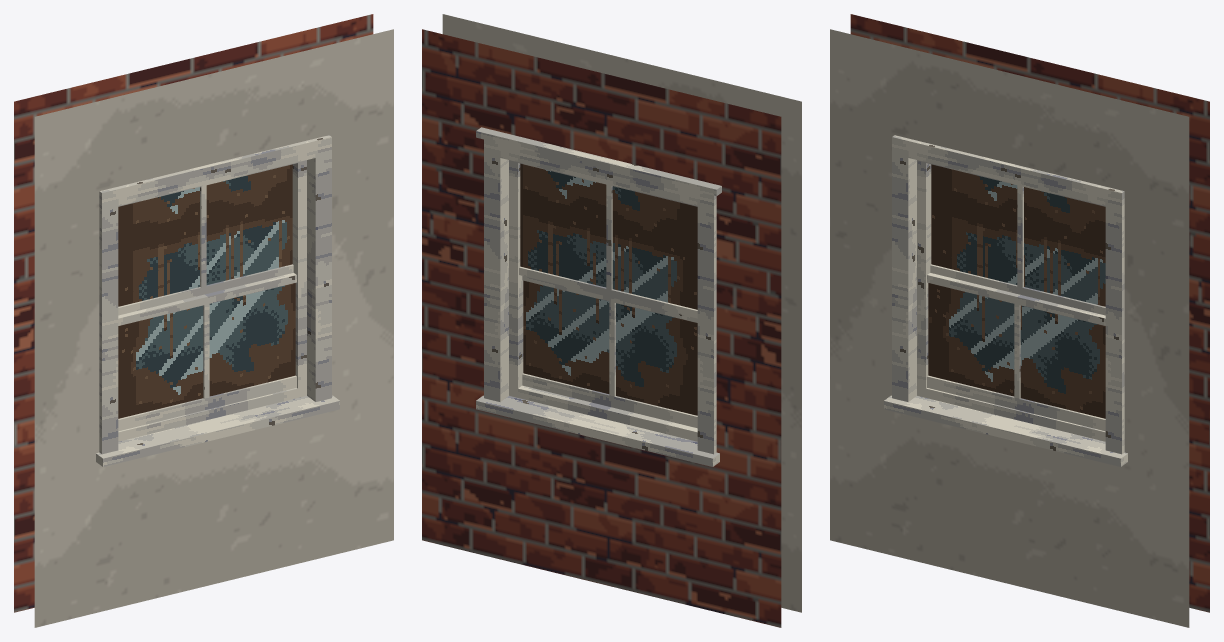
File: RES_Ext_Wall_2m_Window_BrickRed.obj
3 renders of one model, left to right at view 1: azimuth 30°, elevation 25°; view 2: azimuth 150°, elevation 25°; view 3: azimuth 330°, elevation 25°, orthographic.
Parts seen in each view (by area): view 1: RES_Ext_Wall_2m_Window_BrickRed_Mesh_M_Int_DrywallLight, RES_Ext_Wall_2m_Window_BrickRed_Mesh_M_Arch_TrimPainted, RES_Ext_Wall_2m_Window_BrickRed_Mesh_M_Arch_BrickRed, RES_Ext_Wall_2m_Window_BrickRed_Mesh_M_Arch_WindowGlassDirty, INT_WindowSash_M_Arch_WindowGlassDirty, INT_WindowSash_M_Arch_TrimPainted; view 2: RES_Ext_Wall_2m_Window_BrickRed_Mesh_M_Arch_BrickRed, RES_Ext_Wall_2m_Window_BrickRed_Mesh_M_Arch_TrimPainted, RES_Ext_Wall_2m_Window_BrickRed_Mesh_M_Arch_WindowGlassDirty, RES_Ext_Wall_2m_Window_BrickRed_Mesh_M_Int_DrywallLight, INT_WindowSash_M_Arch_WindowGlassDirty, INT_WindowSash_M_Arch_TrimPainted; view 3: RES_Ext_Wall_2m_Window_BrickRed_Mesh_M_Int_DrywallLight, RES_Ext_Wall_2m_Window_BrickRed_Mesh_M_Arch_TrimPainted, RES_Ext_Wall_2m_Window_BrickRed_Mesh_M_Arch_BrickRed, RES_Ext_Wall_2m_Window_BrickRed_Mesh_M_Arch_WindowGlassDirty, INT_WindowSash_M_Arch_WindowGlassDirty, INT_WindowSash_M_Arch_TrimPainted.
Part boxes in pixels (box(x1,y1,x2,y2)): RES_Ext_Wall_2m_Window_BrickRed_Mesh_M_Int_DrywallLight: box(34, 29, 393, 627); RES_Ext_Wall_2m_Window_BrickRed_Mesh_M_Arch_TrimPainted: box(96, 135, 339, 466); RES_Ext_Wall_2m_Window_BrickRed_Mesh_M_Arch_BrickRed: box(14, 14, 373, 612); RES_Ext_Wall_2m_Window_BrickRed_Mesh_M_Arch_WindowGlassDirty: box(118, 164, 292, 306); INT_WindowSash_M_Arch_WindowGlassDirty: box(118, 283, 295, 418); INT_WindowSash_M_Arch_TrimPainted: box(118, 273, 296, 431); RES_Ext_Wall_2m_Window_BrickRed_Mesh_M_Arch_BrickRed: box(422, 29, 781, 627); RES_Ext_Wall_2m_Window_BrickRed_Mesh_M_Arch_TrimPainted: box(476, 127, 721, 466); RES_Ext_Wall_2m_Window_BrickRed_Mesh_M_Arch_WindowGlassDirty: box(520, 163, 697, 309); RES_Ext_Wall_2m_Window_BrickRed_Mesh_M_Int_DrywallLight: box(442, 14, 801, 612); INT_WindowSash_M_Arch_WindowGlassDirty: box(523, 280, 697, 415); INT_WindowSash_M_Arch_TrimPainted: box(522, 276, 697, 428); RES_Ext_Wall_2m_Window_BrickRed_Mesh_M_Int_DrywallLight: box(830, 29, 1189, 627); RES_Ext_Wall_2m_Window_BrickRed_Mesh_M_Arch_TrimPainted: box(884, 135, 1127, 466); RES_Ext_Wall_2m_Window_BrickRed_Mesh_M_Arch_BrickRed: box(850, 14, 1209, 612); RES_Ext_Wall_2m_Window_BrickRed_Mesh_M_Arch_WindowGlassDirty: box(931, 164, 1105, 306); INT_WindowSash_M_Arch_WindowGlassDirty: box(928, 283, 1105, 418); INT_WindowSash_M_Arch_TrimPainted: box(927, 273, 1105, 431).
Bounding box in the file's own units: 2 × 2.72 × 0.34.
Materials: 4 (4 with a texture image).
